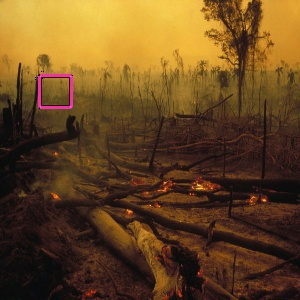square: (37, 73, 74, 110)
